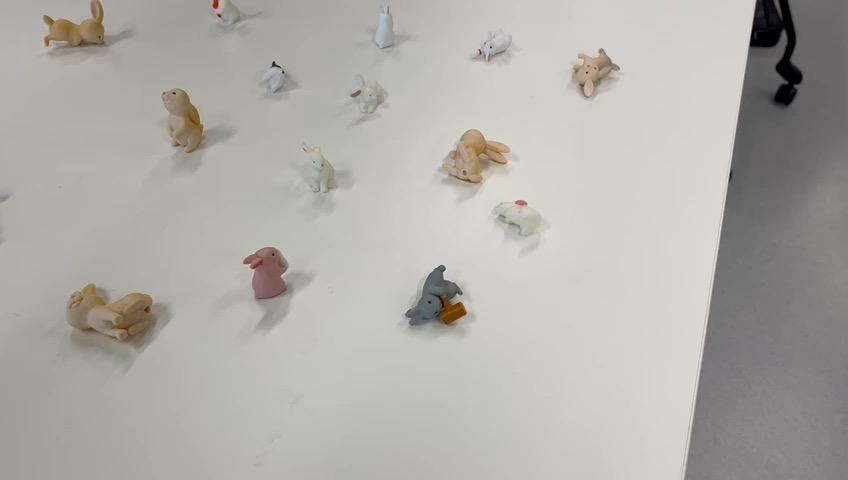pet: (63, 274, 162, 347), (401, 253, 476, 330), (438, 118, 514, 190), (156, 80, 216, 158), (37, 0, 118, 55), (242, 243, 299, 305), (559, 44, 620, 101), (485, 193, 548, 242), (342, 70, 391, 125), (292, 146, 345, 192), (473, 24, 518, 66), (255, 55, 293, 95), (375, 1, 400, 49), (201, 0, 242, 27)
